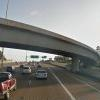Bridge: (4, 10, 94, 70)
